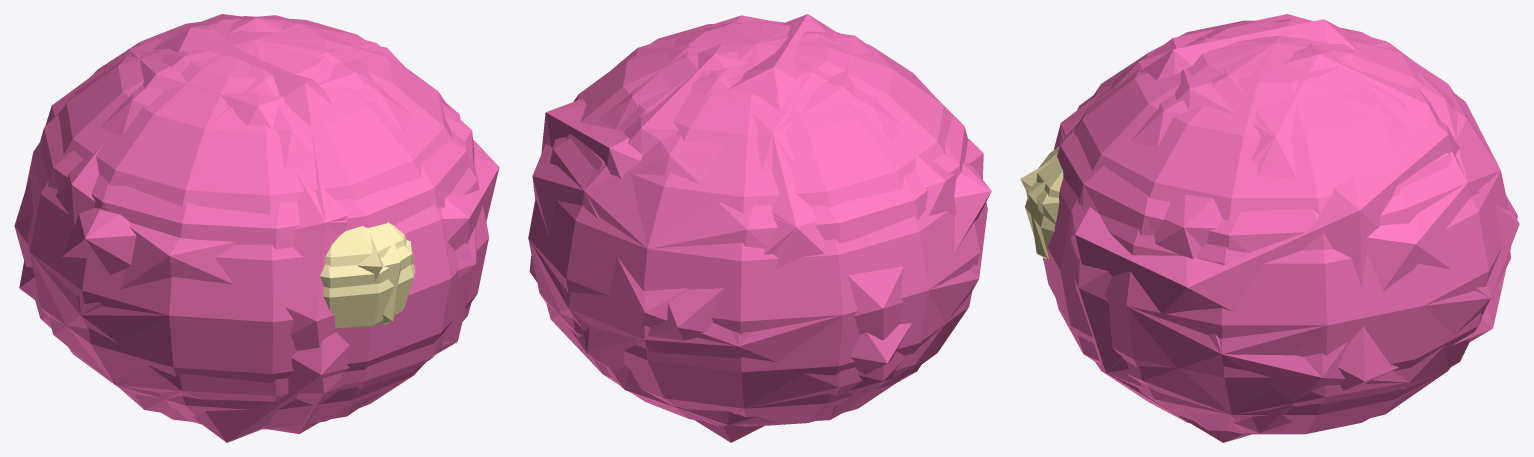
The model's file is SM_Exploder.fbx.
The picture shows the model from 3 angles, left to right: view 1: azimuth 30°, elevation 25°; view 2: azimuth 150°, elevation 25°; view 3: azimuth 270°, elevation 25°; orthographic projection. The views are drawn at different scales.
Parts seen in each view (by area): view 1: SM_Exploder, LOD1_SM_Exploder, LOD2_SM_Exploder, LOD3_SM_Exploder; view 2: SM_Exploder, LOD1_SM_Exploder, LOD2_SM_Exploder, LOD3_SM_Exploder; view 3: SM_Exploder, LOD1_SM_Exploder, LOD2_SM_Exploder, LOD3_SM_Exploder.
Boxes of the visible parts, x1,y1,x2,y2 form: SM_Exploder: [25, 16, 488, 429]; LOD1_SM_Exploder: [30, 15, 471, 421]; LOD2_SM_Exploder: [14, 14, 476, 433]; LOD3_SM_Exploder: [19, 25, 499, 442]; SM_Exploder: [528, 21, 987, 426]; LOD1_SM_Exploder: [528, 22, 987, 425]; LOD2_SM_Exploder: [532, 15, 983, 425]; LOD3_SM_Exploder: [529, 14, 991, 442]; SM_Exploder: [1025, 20, 1508, 434]; LOD1_SM_Exploder: [1025, 19, 1510, 431]; LOD2_SM_Exploder: [1028, 14, 1519, 432]; LOD3_SM_Exploder: [1020, 19, 1517, 442].
Bounding box in the file's own units: 0.3559 × 0.3111 × 0.3779.
